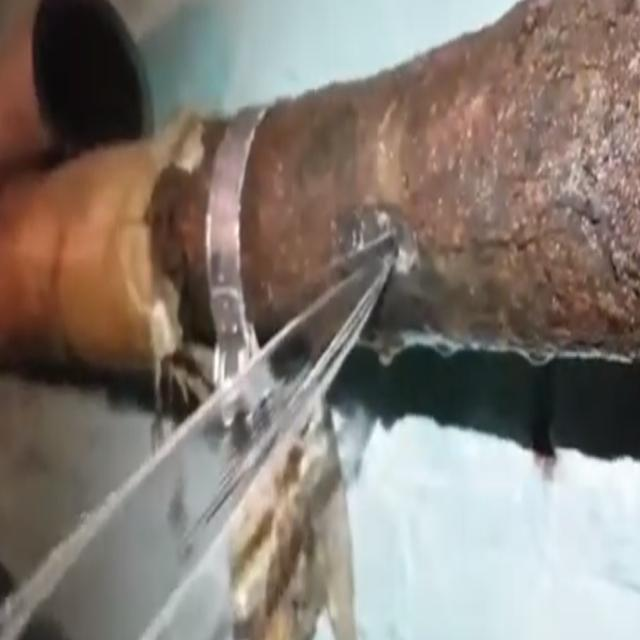leak: (0, 229, 400, 640)
